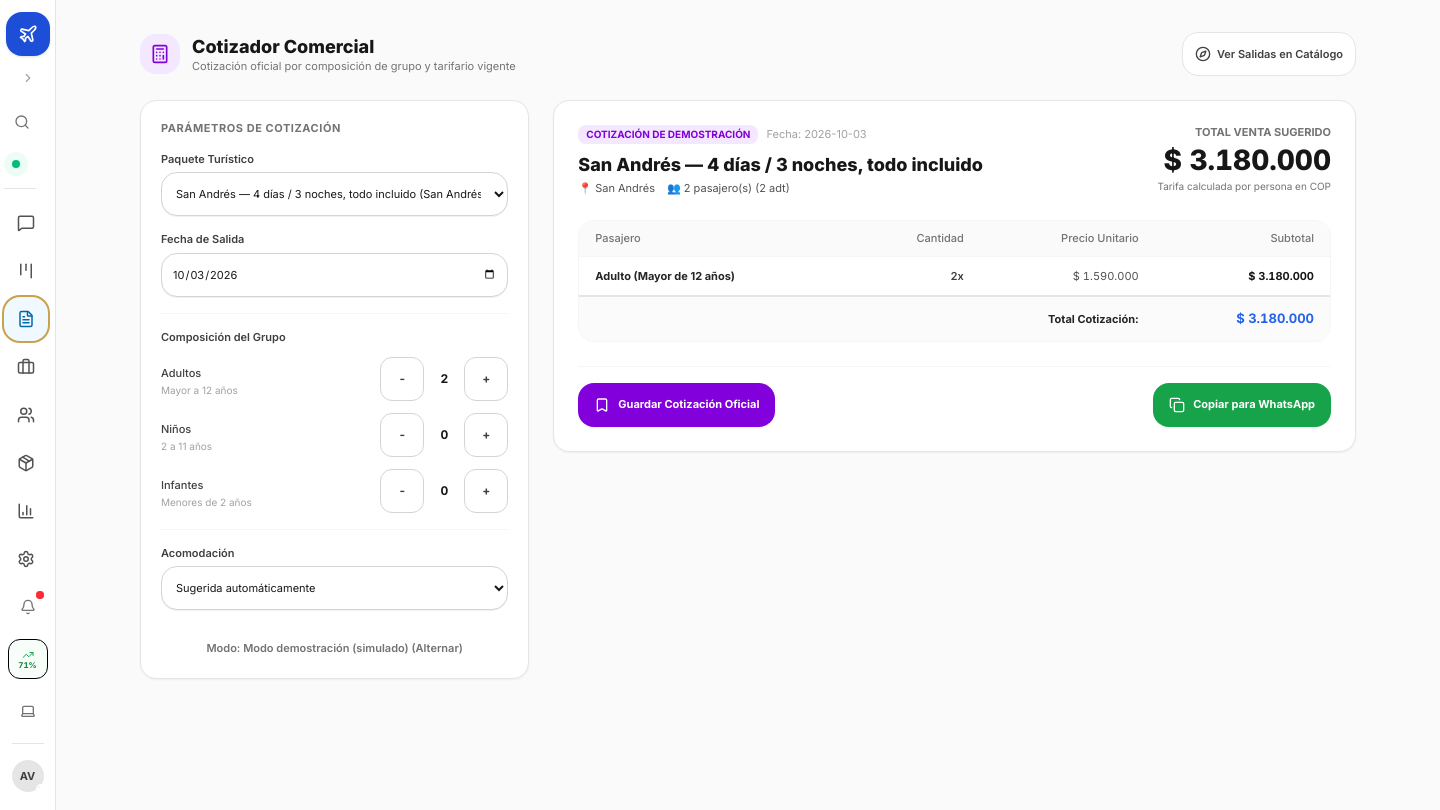
CotizadorPage — Excursiones de un Día y Estados de UI (Bloque 2) › 3. En modo demostración con tour náutico en Cartagena muestra aviso de impuesto de muelle
Note: Seleccionar la excursión marítima de Cartagena
Step 1. Select "Pasadía Islas del Rosario & Barú VIP — Excursión 1 Día (Cartagena)" in the dropdown labelled "Paquete Turístico" → (335, 194), box [161, 172, 508, 216]
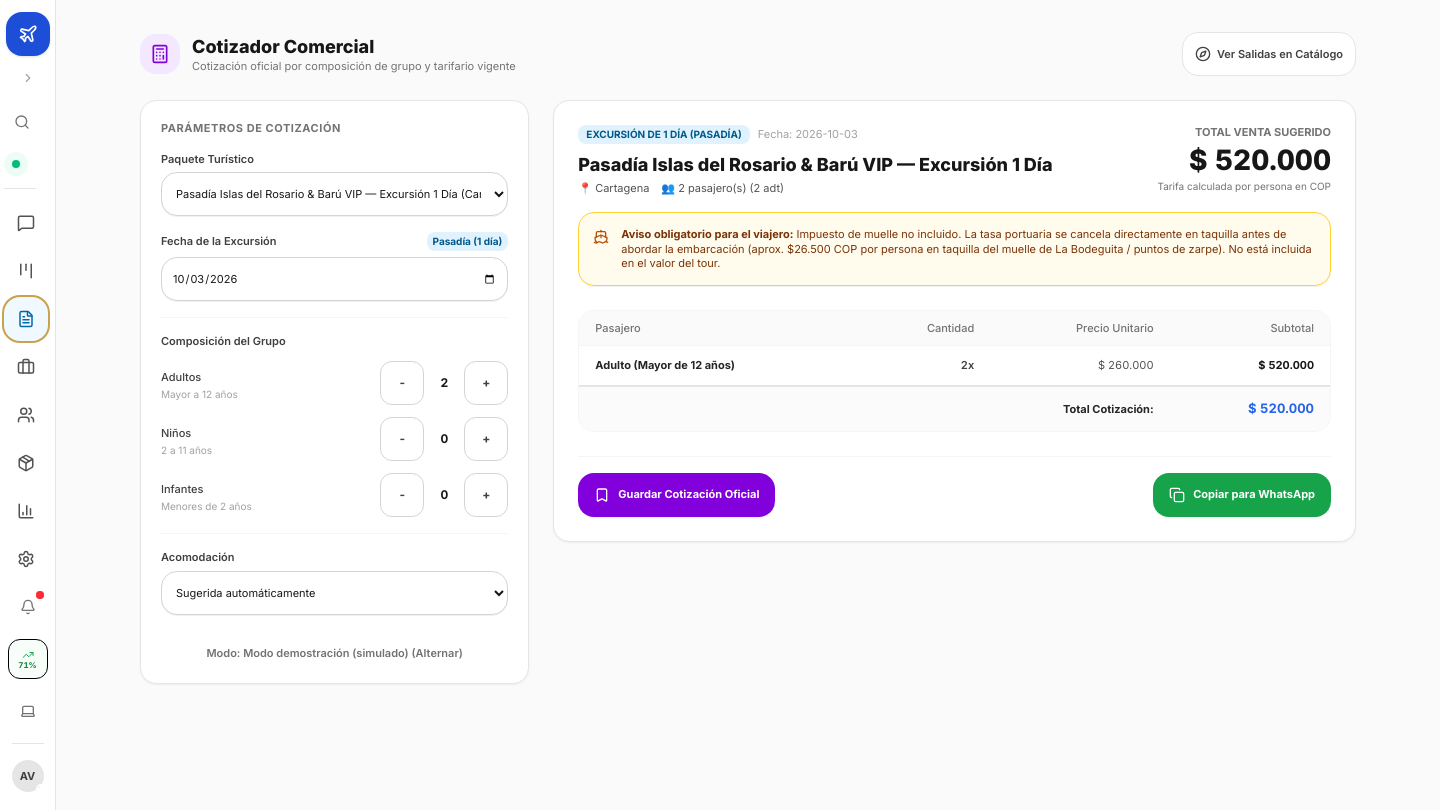
Result: the element with test id "aviso-impuesto-muelle" is shown at [578, 212, 1331, 286]
Result: the element with test id "aviso-impuesto-muelle" shows "Impuesto de muelle no incluido" at [621, 227, 1312, 270]
